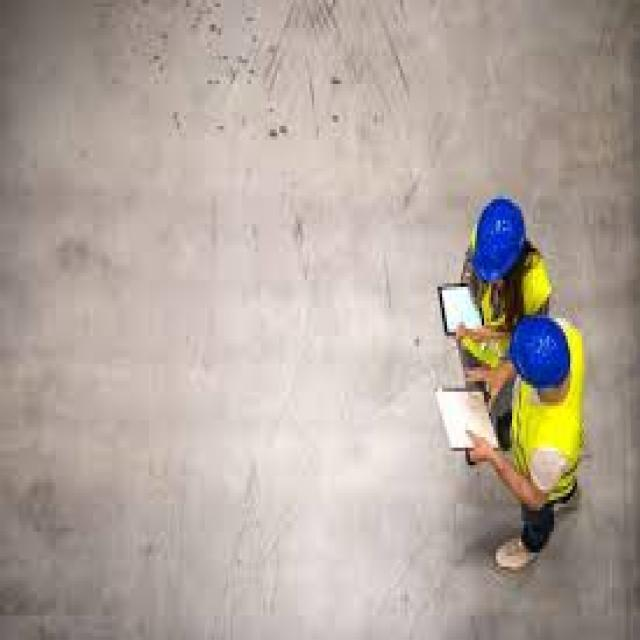reflective_jacket: (497, 314, 600, 514), (448, 214, 559, 341)
safety_helmet: (458, 185, 535, 290), (502, 311, 570, 395)
